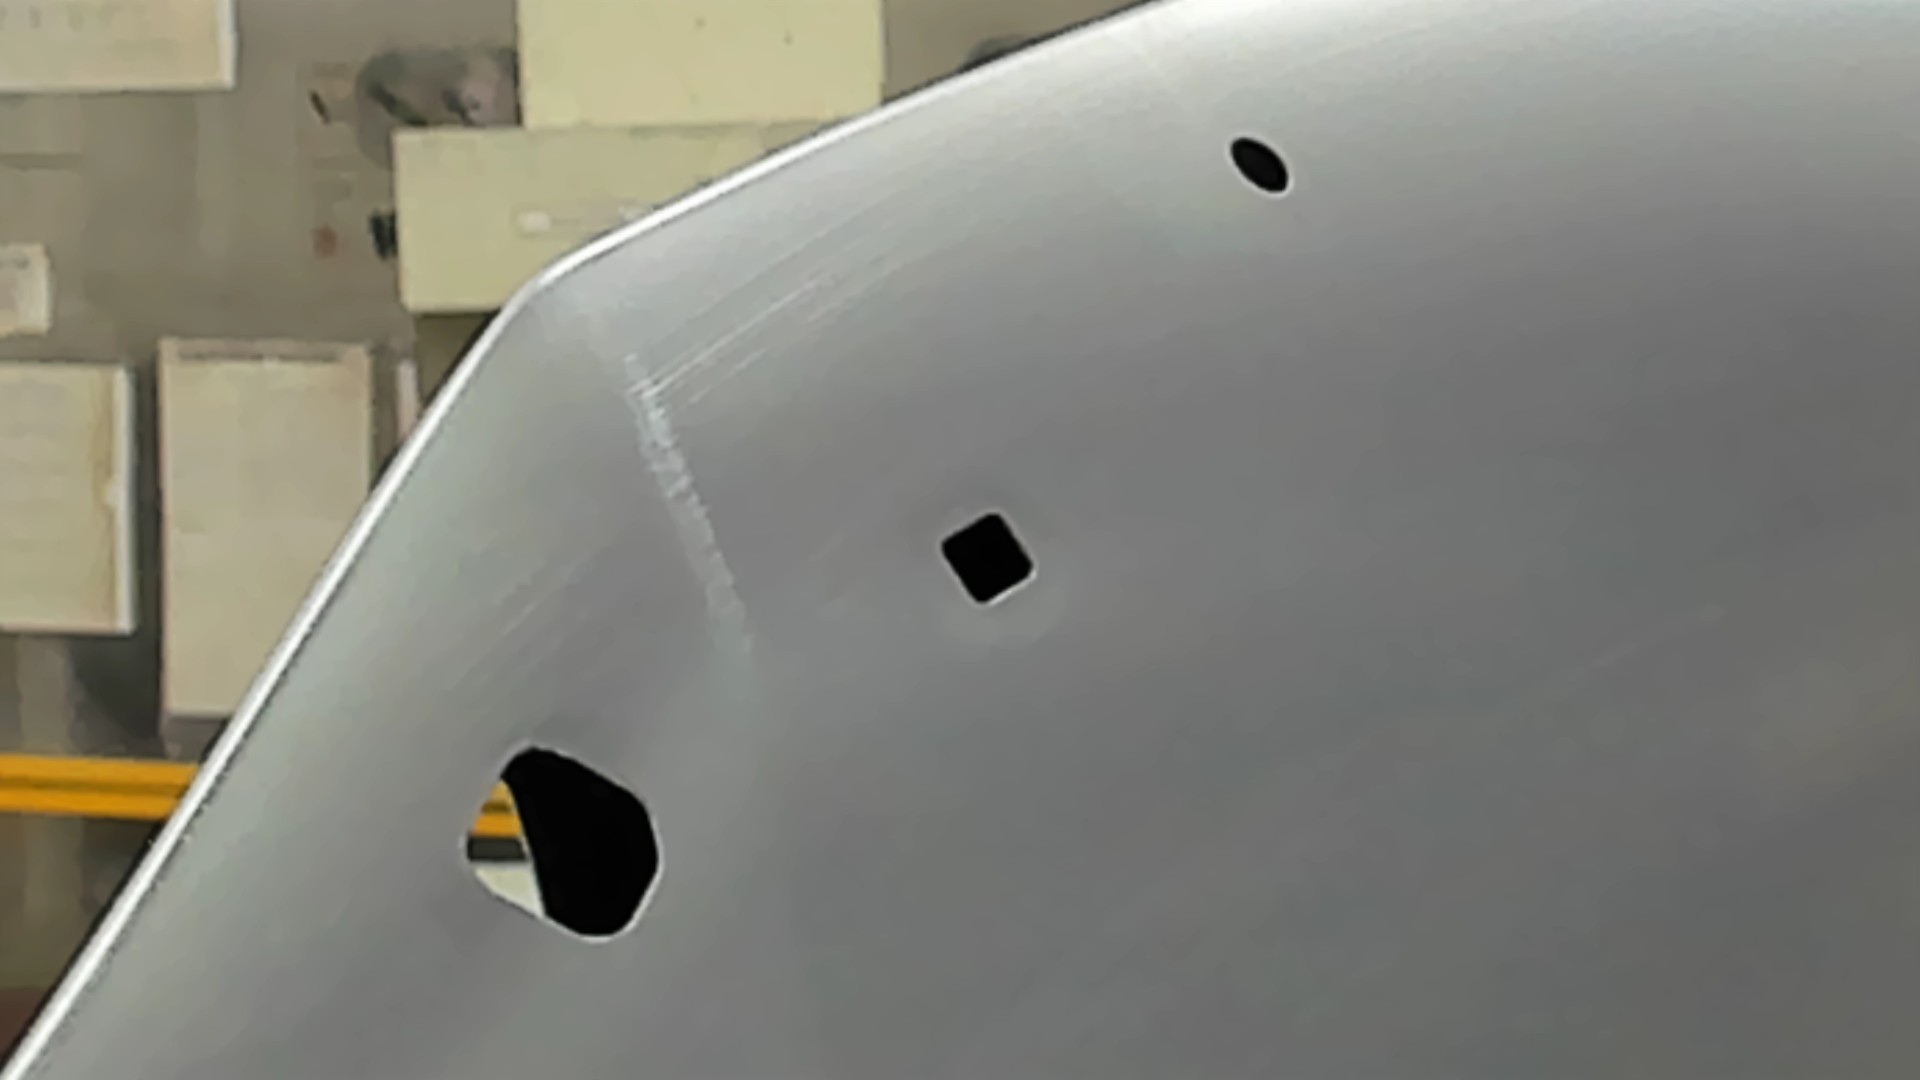chico: (1224, 131, 1298, 200)
grande: (458, 741, 670, 949)
mediano: (938, 509, 1040, 611)
